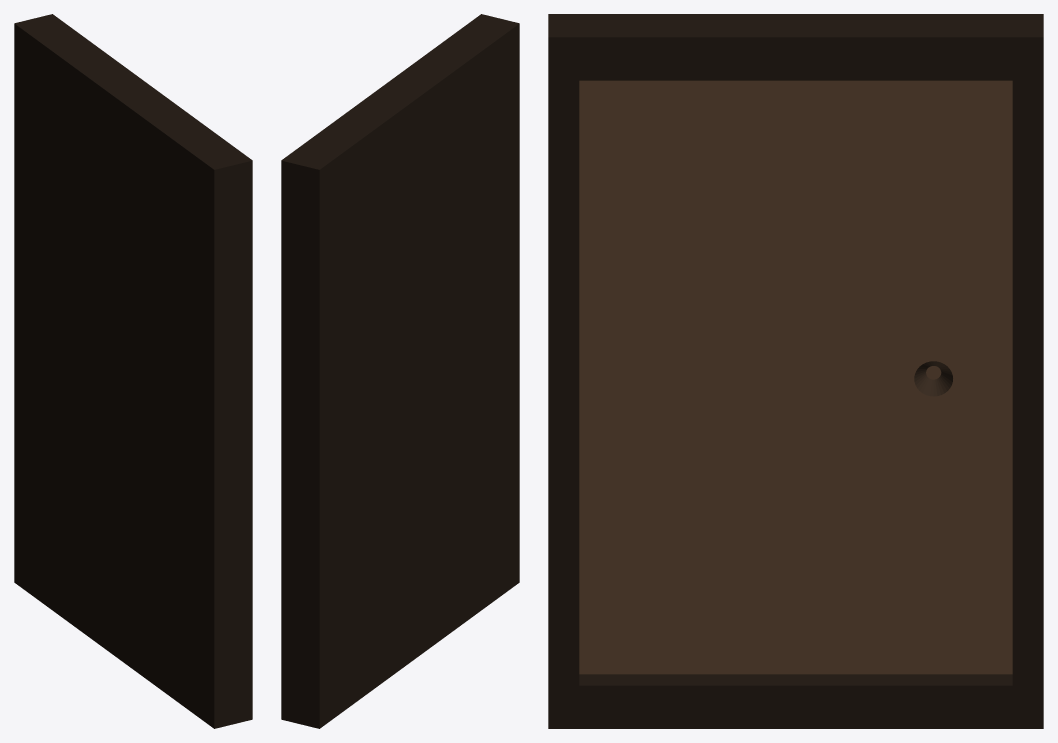
The model's file is door.fbx.
3 views of the same model, side by side, from view 1: azimuth 30°, elevation 25°; view 2: azimuth 150°, elevation 25°; view 3: azimuth 270°, elevation 25° (orthographic). The views are drawn at different scales.
Visible parts, largest first — view 1: Circle; view 2: Circle; view 3: Circle.
Part boxes in pixels (x1,y1,x2,y2): Circle: [14, 14, 252, 728]; Circle: [281, 14, 519, 728]; Circle: [548, 14, 1043, 728].
Bounding box in the file's own units: 43.18 × 600 × 390.
